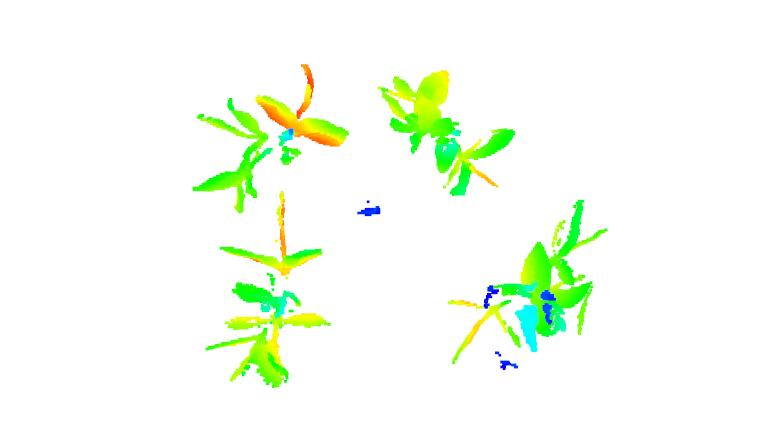mungbean: (442, 197, 613, 367), (199, 189, 326, 387), (186, 59, 349, 209), (378, 65, 516, 201)
